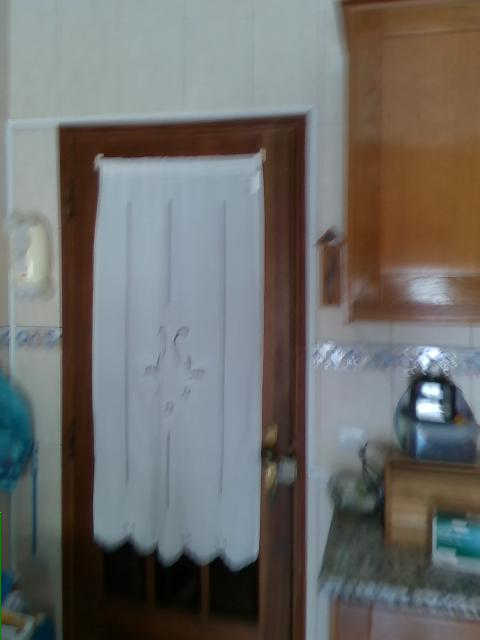door: (58, 114, 308, 639)
